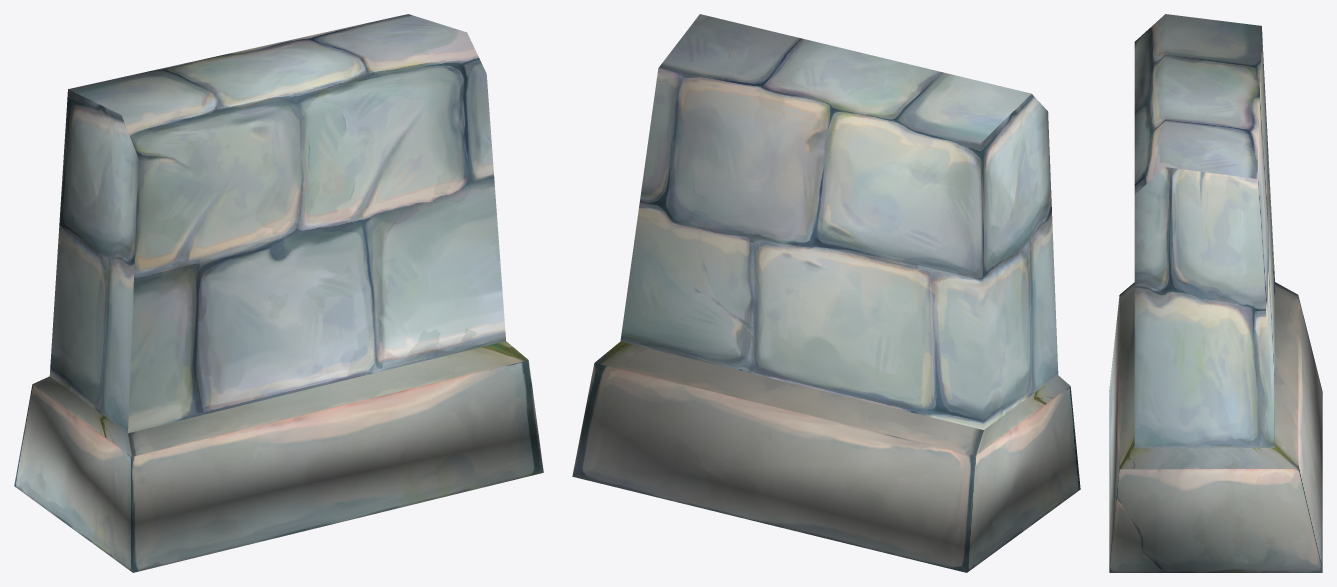
Rendered from geo_temple_obstacle_03.fbx.
3 renders of one model, left to right at view 1: azimuth 30°, elevation 25°; view 2: azimuth 150°, elevation 25°; view 3: azimuth 270°, elevation 25°, orthographic. The views are drawn at different scales.
Visible parts, largest first — view 1: geo_Temple_Stair_LP.011; view 2: geo_Temple_Stair_LP.011; view 3: geo_Temple_Stair_LP.011.
Part boxes in pixels (box(x1,y1,x2,y2)): geo_Temple_Stair_LP.011: box(14, 14, 543, 572); geo_Temple_Stair_LP.011: box(572, 14, 1080, 572); geo_Temple_Stair_LP.011: box(1109, 14, 1322, 572).
Size of the model in its own units: 2 by 2 by 1.
